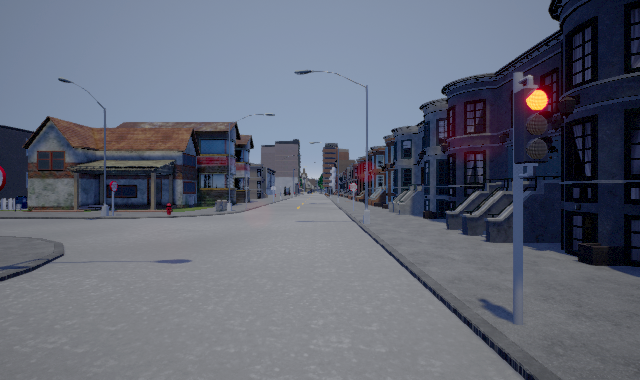traffic_light: (514, 75, 553, 179)
traffic_sign: (1, 166, 6, 191), (110, 181, 118, 192), (349, 183, 357, 191)
